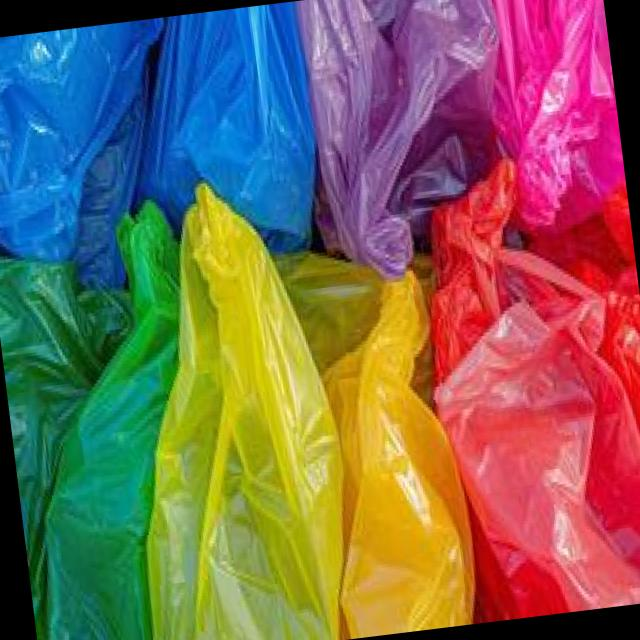plastic_bag: (134, 150, 359, 640)
